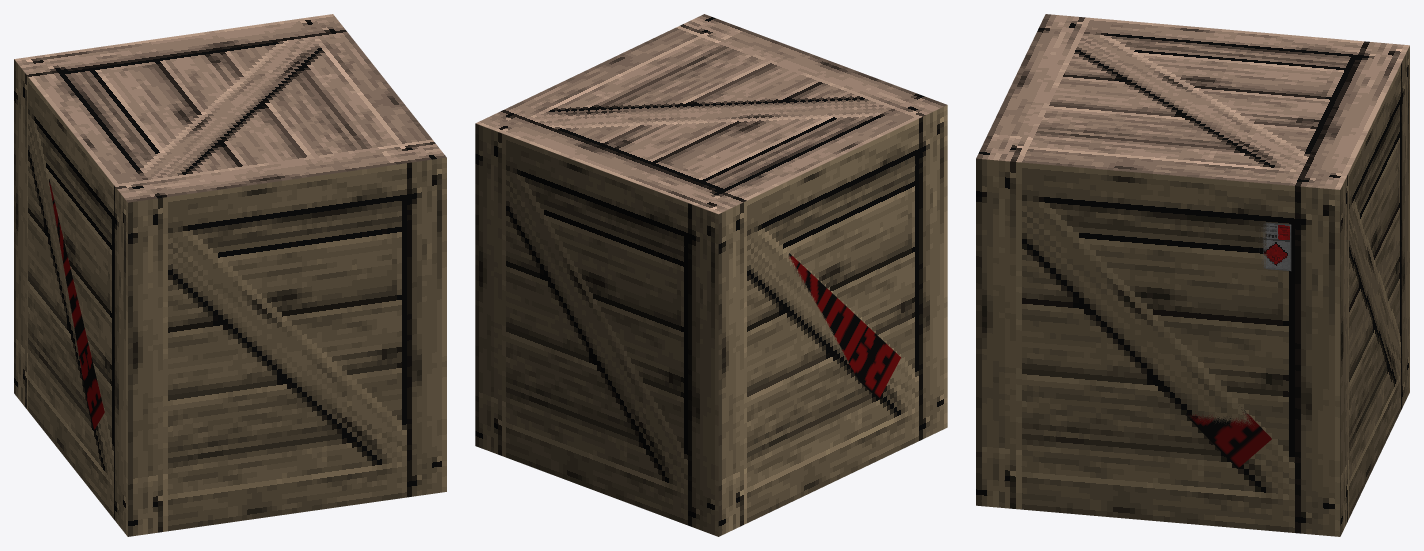
The model's file is primary_143.glb.
3 views of the same model, side by side, from view 1: azimuth 30°, elevation 25°; view 2: azimuth 150°, elevation 25°; view 3: azimuth 270°, elevation 25° (orthographic). The views are drawn at different scales.
Parts seen in each view (by area): view 1: Object; view 2: Object; view 3: Object.
Boxes of the visible parts, x1,y1,x2,y2 form: Object: [14, 14, 446, 536]; Object: [475, 14, 947, 536]; Object: [976, 14, 1409, 536].
Bounding box in the file's own units: 1.05 × 0.9682 × 1.1.
7 materials, 7 textured.
